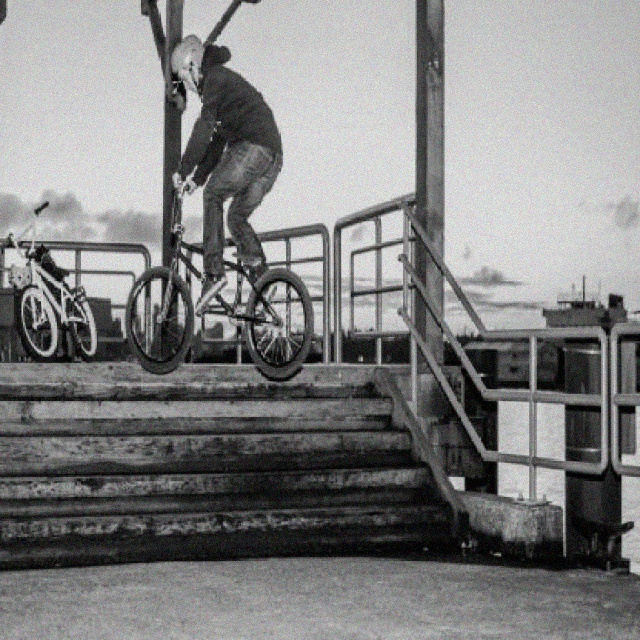stair: (0, 383, 454, 569)
